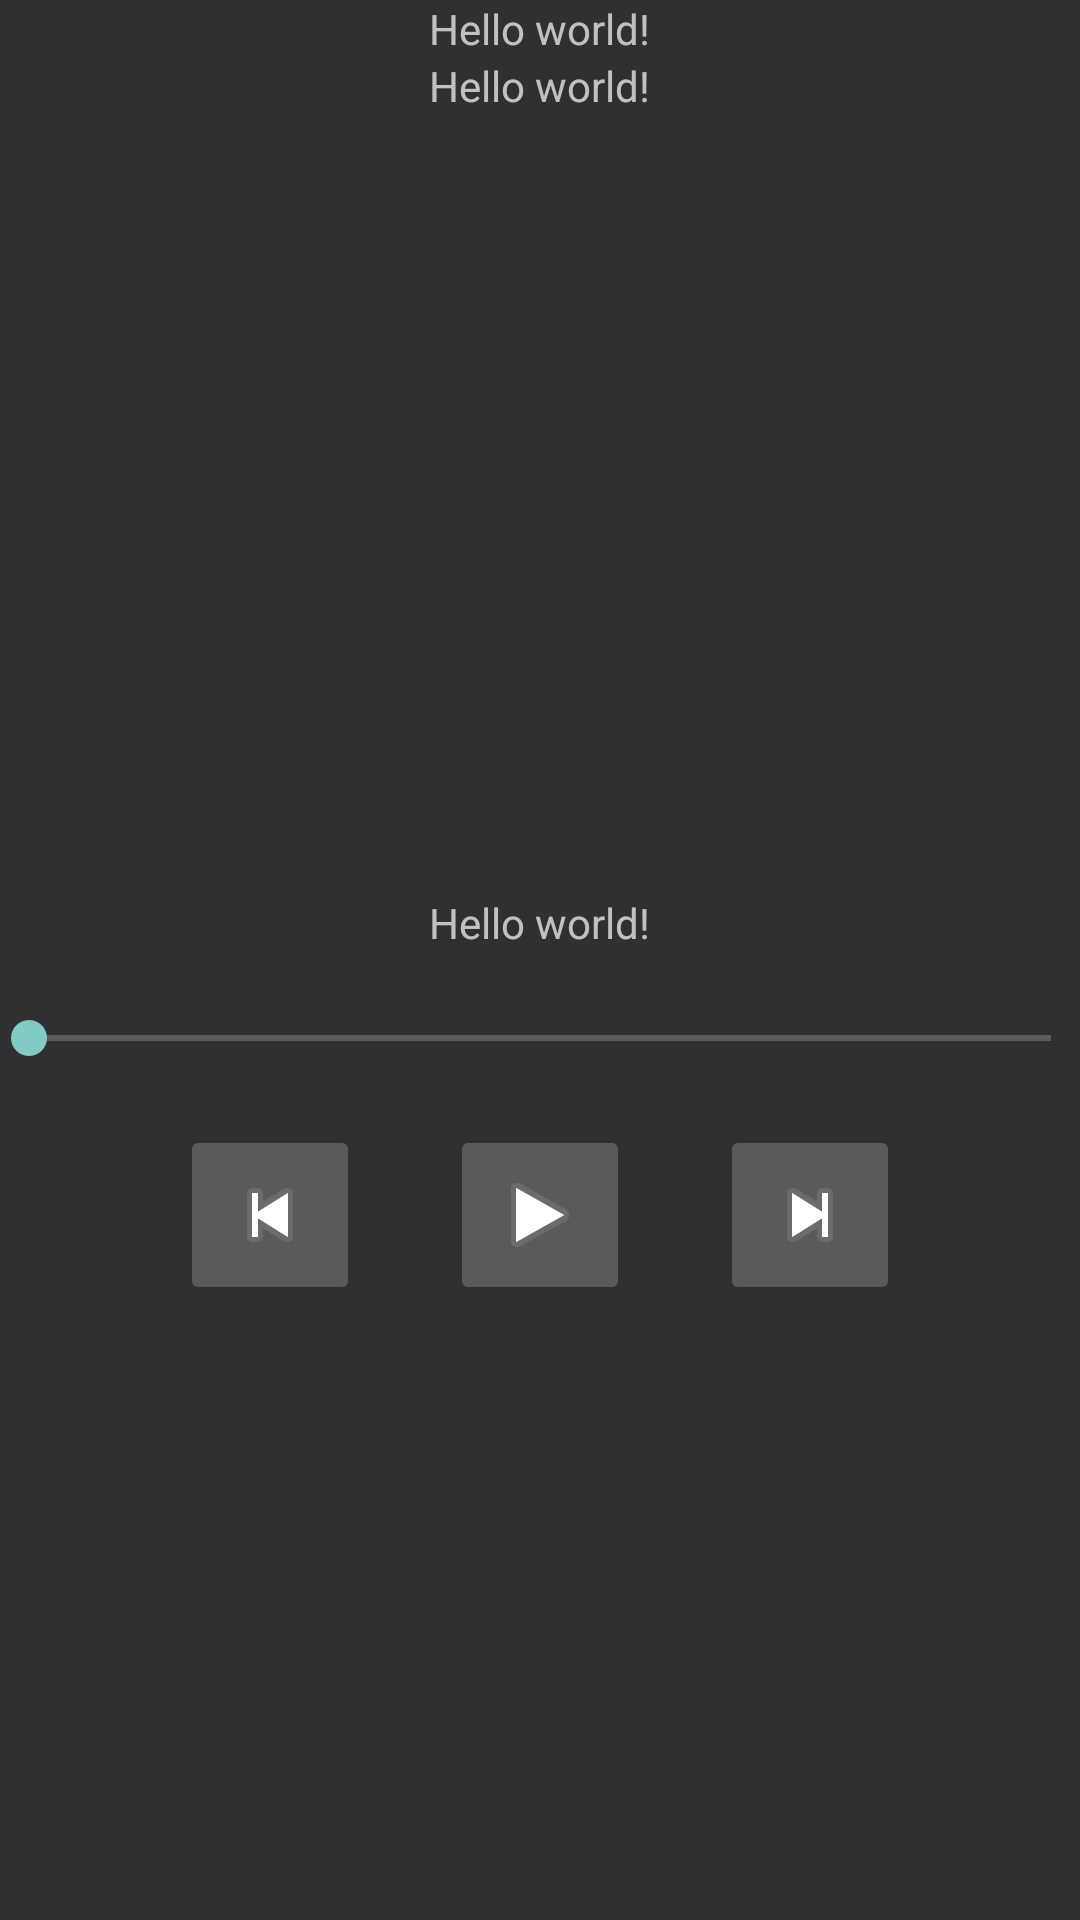

Where to tap for icons on this 1080px x 1920px app screen, as (x=x, y=y):
next: (x=810, y=1215)
play: (x=540, y=1215)
previous: (x=270, y=1215)
